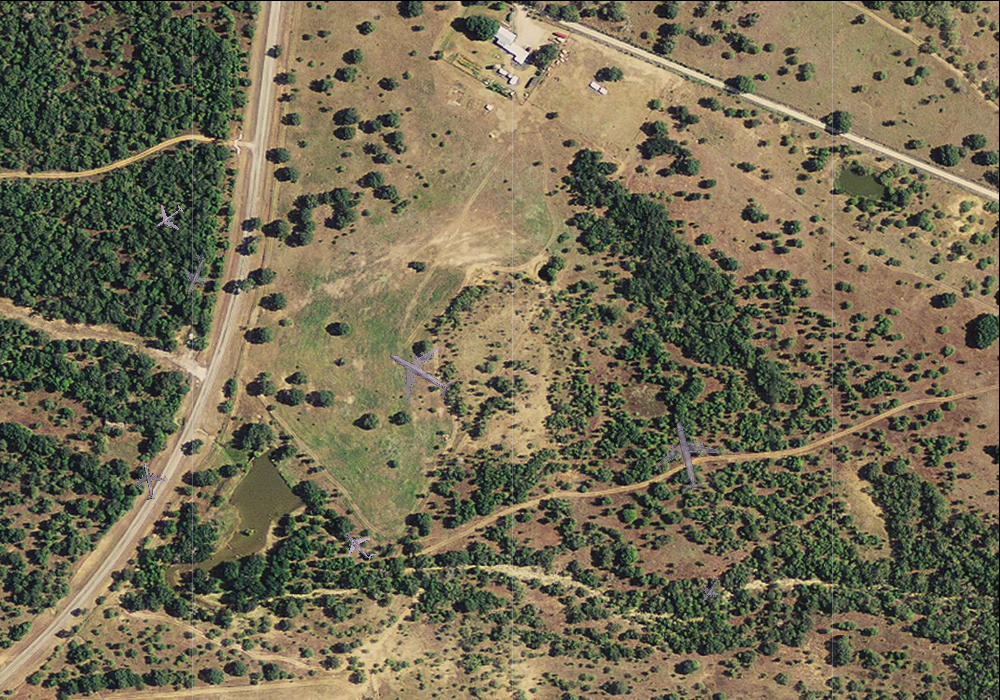plane: (373, 327, 466, 418), (644, 413, 727, 499), (333, 520, 384, 571), (169, 248, 219, 300), (146, 195, 191, 240), (126, 460, 168, 504), (691, 570, 728, 608)
